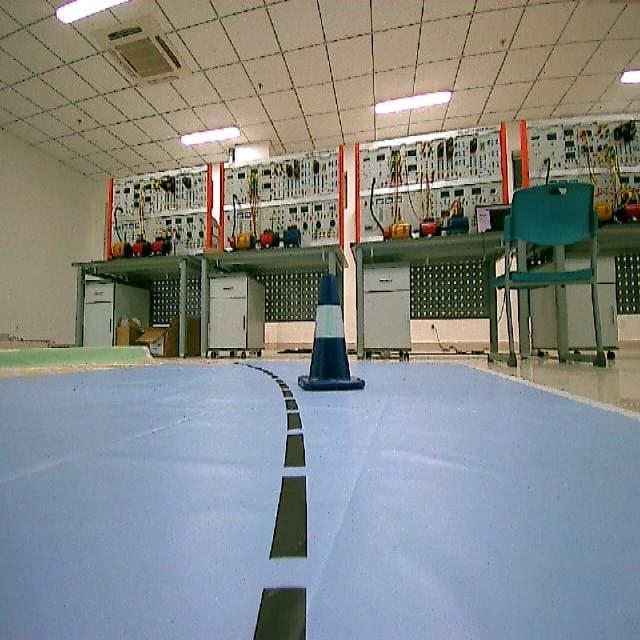obstacle: (295, 276, 371, 396)
